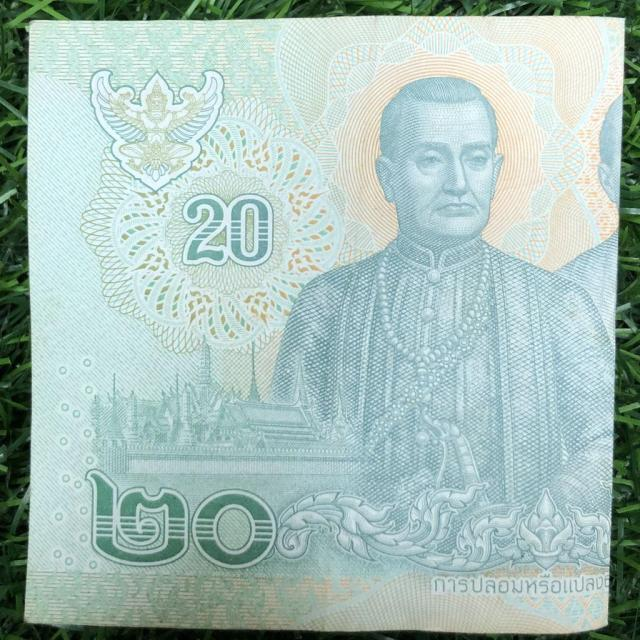THAI20: (23, 14, 627, 638)
